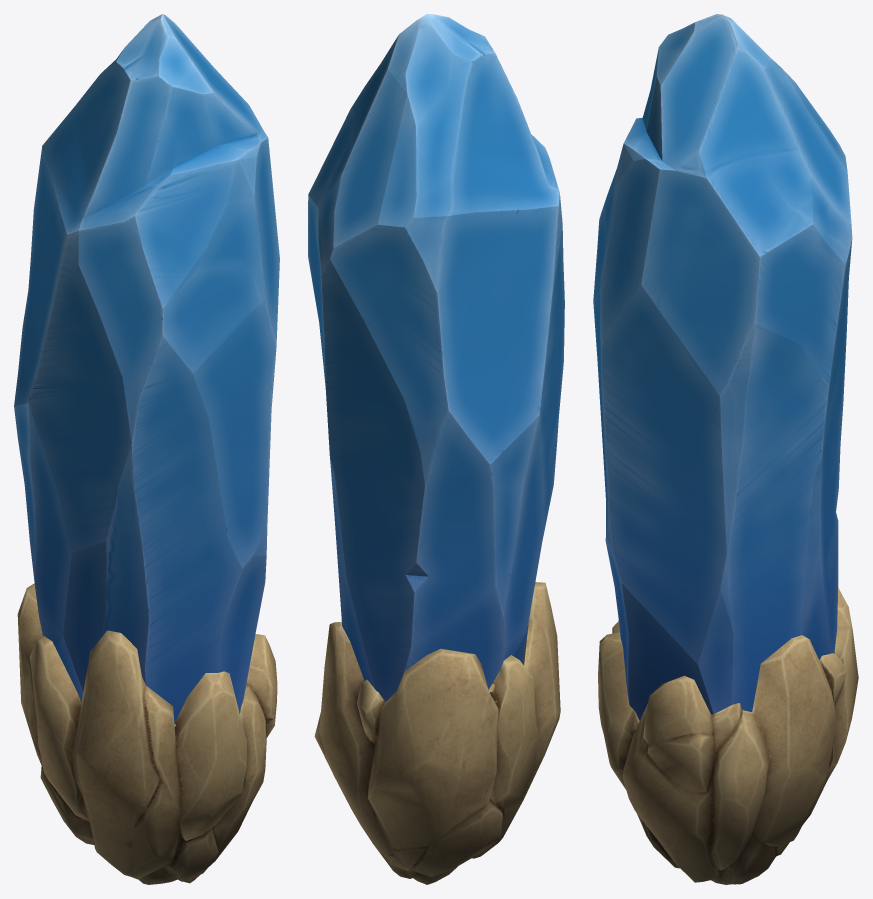
File: Prop_GemStone02.FBX
3 views of the same model, side by side, from view 1: azimuth 30°, elevation 25°; view 2: azimuth 150°, elevation 25°; view 3: azimuth 270°, elevation 25° (orthographic).
Visible parts, largest first — view 1: Prop_GemStone02, Prop_GemBase02; view 2: Prop_GemStone02, Prop_GemBase02; view 3: Prop_GemStone02, Prop_GemBase02.
Boxes of the visible parts, x1=… form: Prop_GemStone02: x1=14, y1=14, x2=279, y2=723; Prop_GemBase02: x1=17, y1=583, x2=277, y2=884; Prop_GemStone02: x1=308, y1=14, x2=564, y2=702; Prop_GemBase02: x1=314, y1=582, x2=560, y2=884; Prop_GemStone02: x1=593, y1=14, x2=852, y2=720; Prop_GemBase02: x1=598, y1=588, x2=858, y2=884.
Bounding box in the file's own units: 14.98 × 54.76 × 15.15.
Materials: 2 (2 with a texture image).
